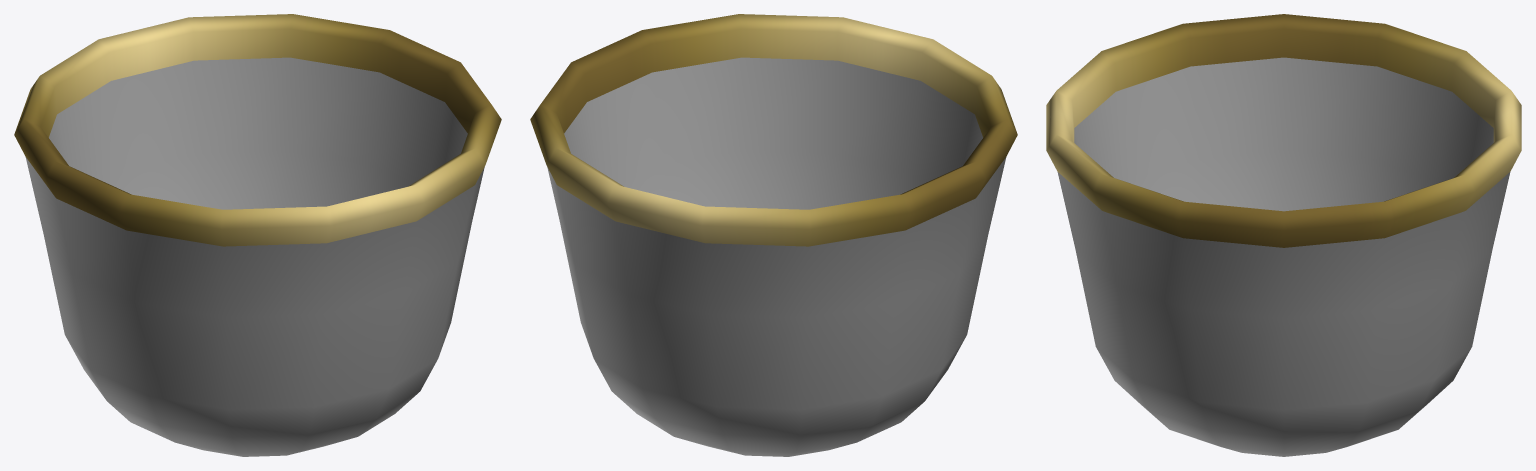
The model's file is Dallah_Cup.fbx.
The picture shows the model from 3 angles, left to right: view 1: azimuth 30°, elevation 25°; view 2: azimuth 150°, elevation 25°; view 3: azimuth 270°, elevation 25°; orthographic projection.
Visible parts, largest first — view 1: Dallah_Cup; view 2: Dallah_Cup; view 3: Dallah_Cup.
Part boxes in pixels (x1=…): Dallah_Cup: x1=14, y1=14, x2=501, y2=456; Dallah_Cup: x1=530, y1=14, x2=1017, y2=456; Dallah_Cup: x1=1046, y1=14, x2=1521, y2=456.
Bounding box in the file's own units: 23.31 × 16.01 × 22.73.
